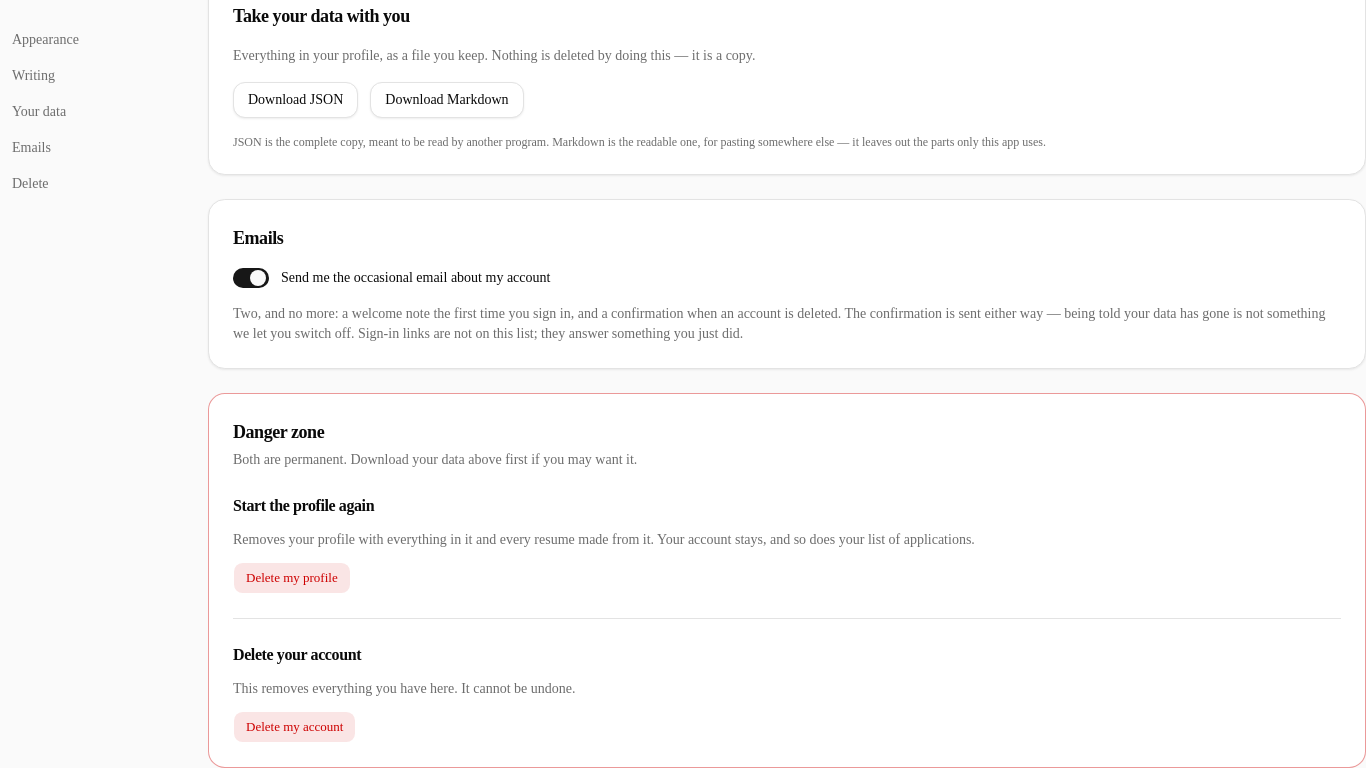
Test case: deleting an account › counts what goes before anything goes
(page scrolled)
Click the button "Delete my account" at [295, 727], box [233, 711, 356, 743]
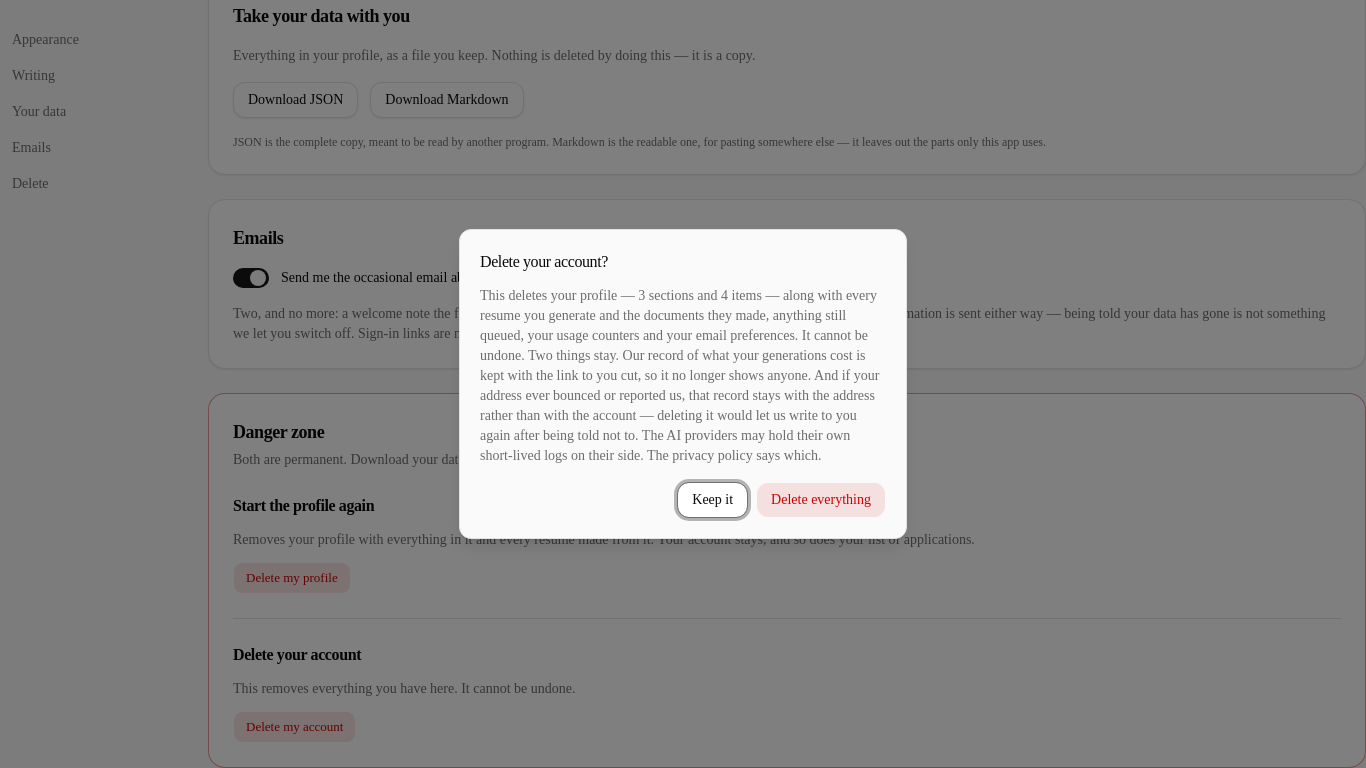
Result: the dialog shows "3 sections" at [480, 288, 879, 463]
Result: the dialog shows "4 items" at [480, 288, 879, 463]
